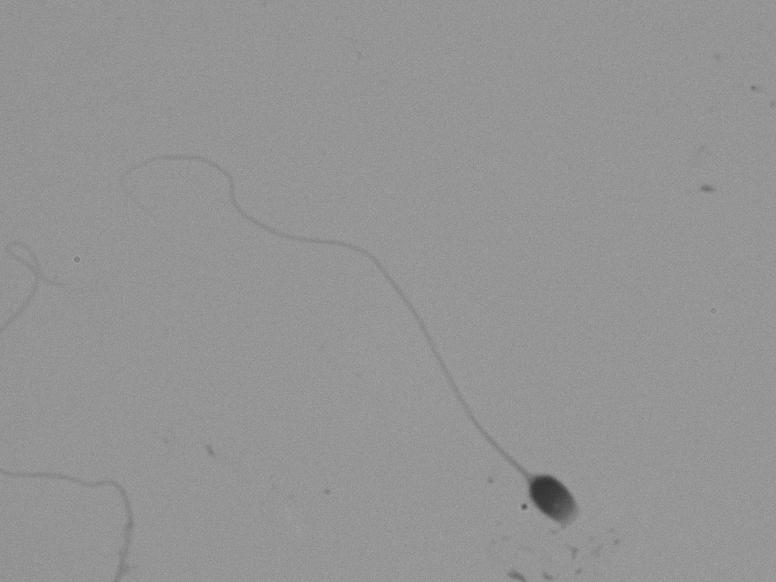Normal: (121, 85, 613, 540)
